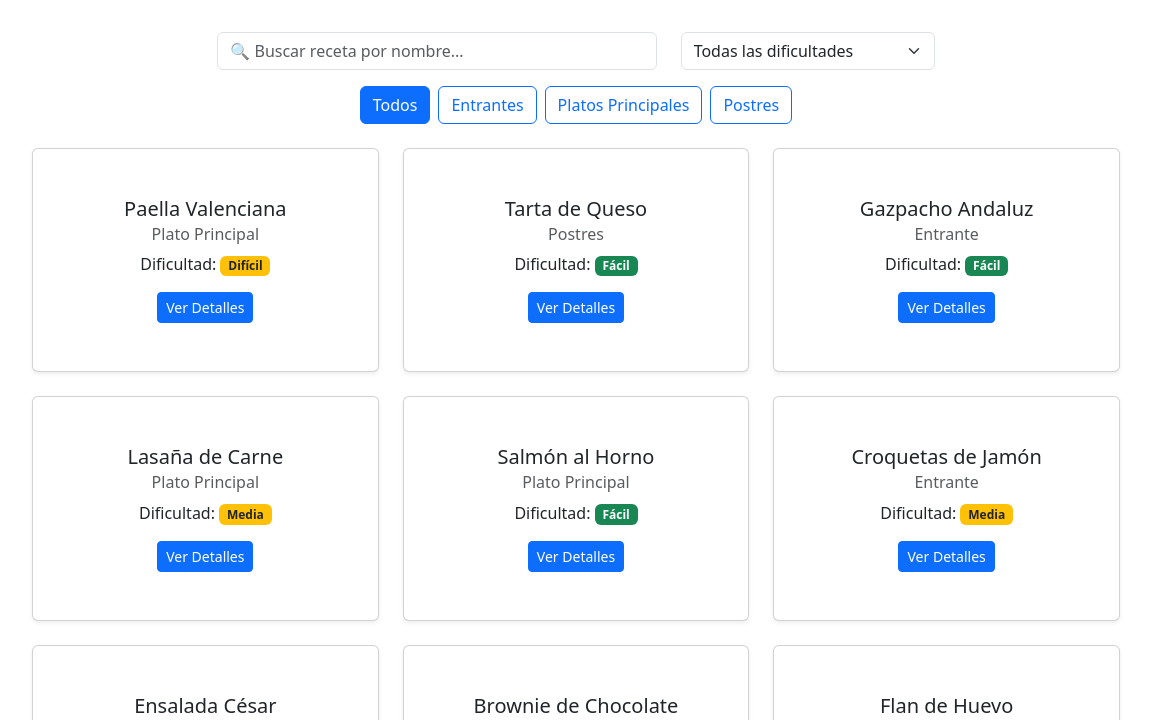
Scenario: RecipeList Component › filtra por categoría y dificultad
Expected: the heading "Paella Valenciana" is shown, top-left (124, 195), bottom-right (287, 222)
Note: Filtro Categoría: Click en "Postres"
Click the button "Postres". click: (751, 105)
box: top-left (710, 86), bottom-right (792, 124)
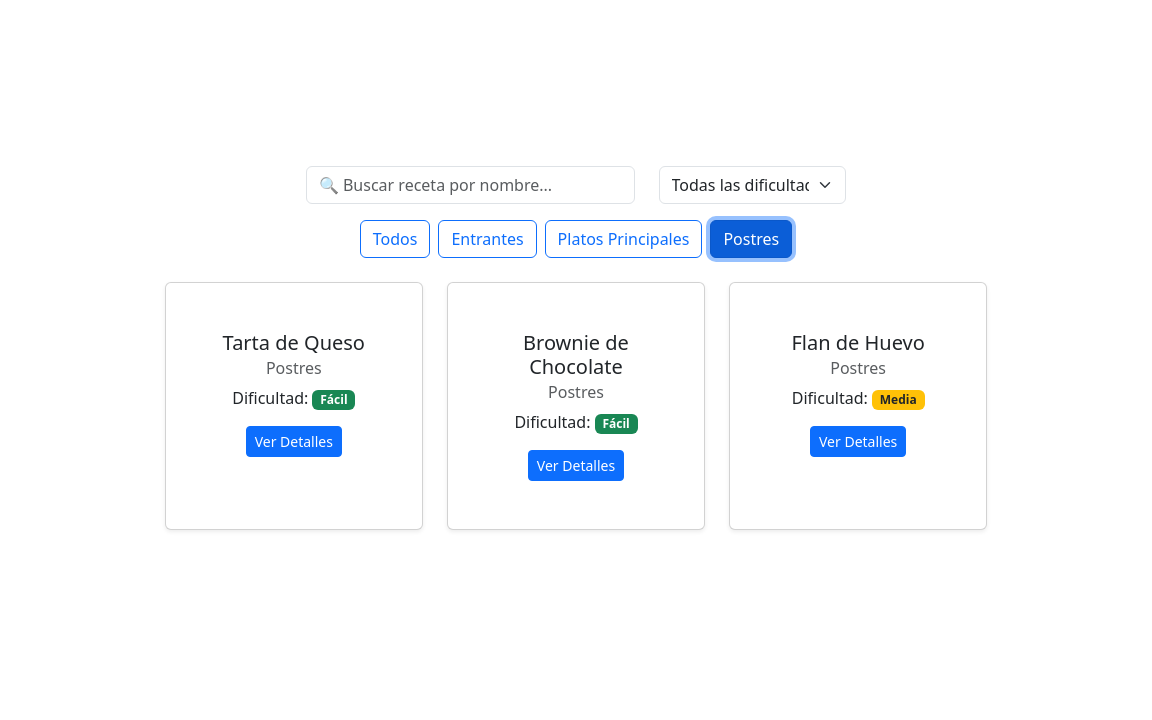
Expected: the heading "Tarta de Queso" is shown, top-left (214, 331), bottom-right (374, 355)
Expected: the heading "Paella Valenciana" is gone
Note: Filtro Dificultad: Seleccionar "Difícil" (La tarta es fácil, debería desaparecer)
Select "Difícil" in the dropdown. click: (752, 185)
box: top-left (658, 166), bottom-right (846, 204)
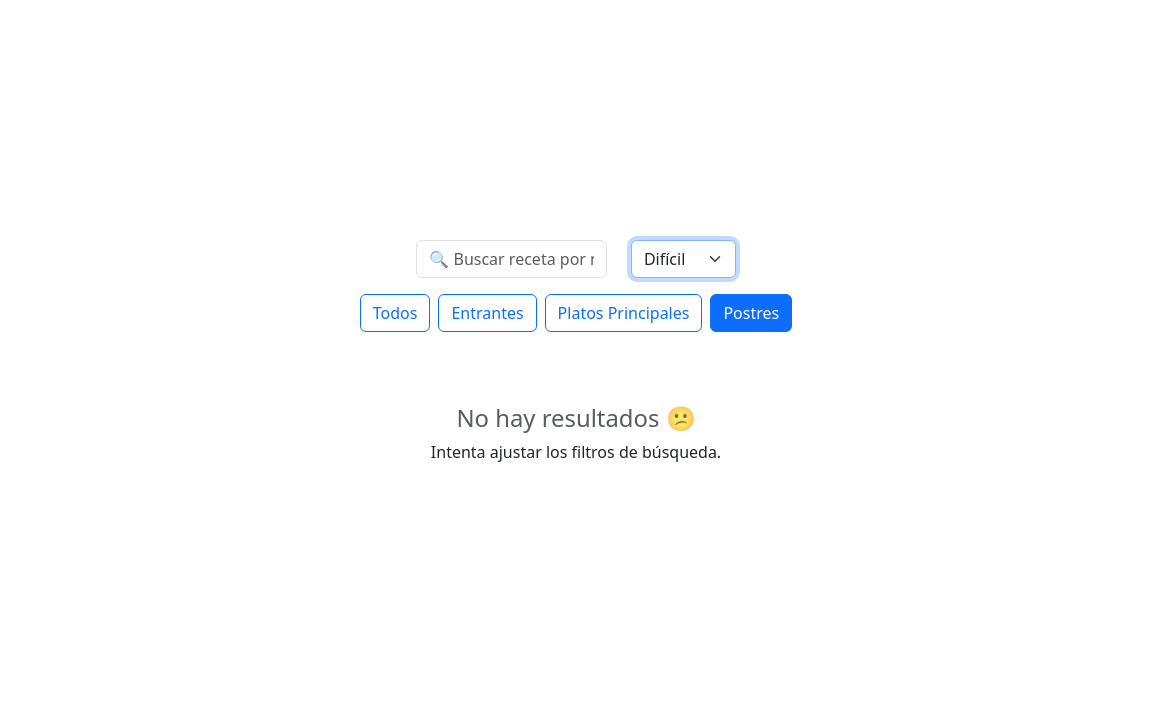
Expected: the heading "No hay resultados 😕" is shown, top-left (456, 402), bottom-right (696, 434)
